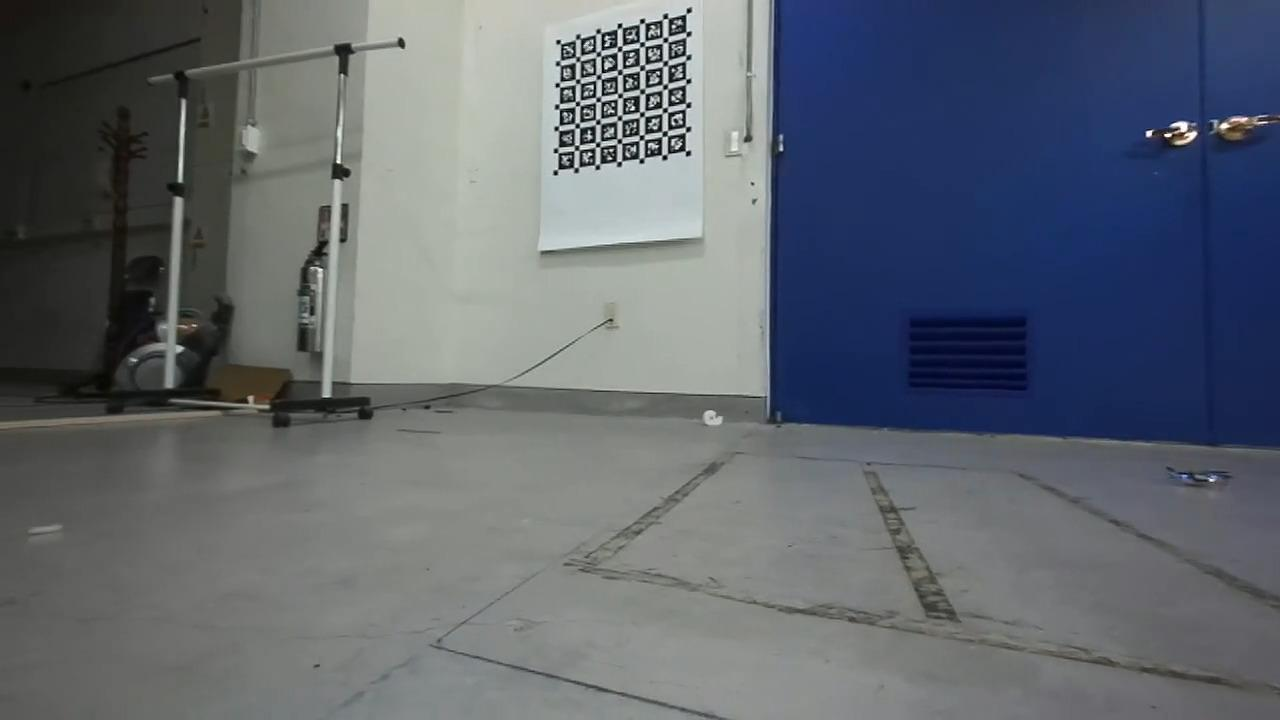crazyflie: (1162, 460, 1235, 492)
